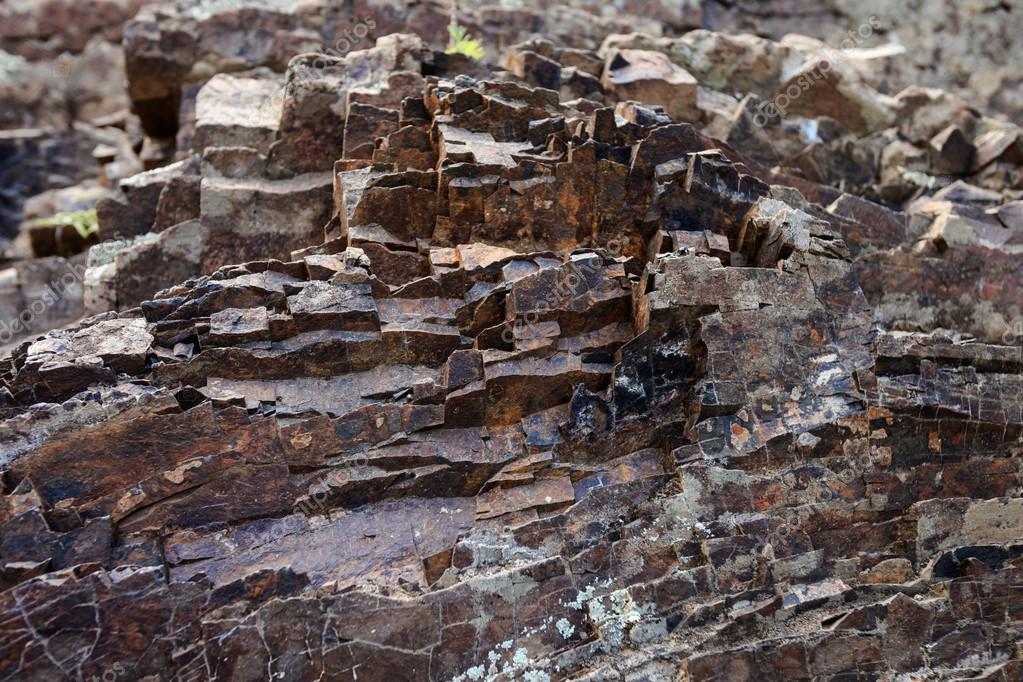volcanic_rock: (36, 32, 983, 671)
